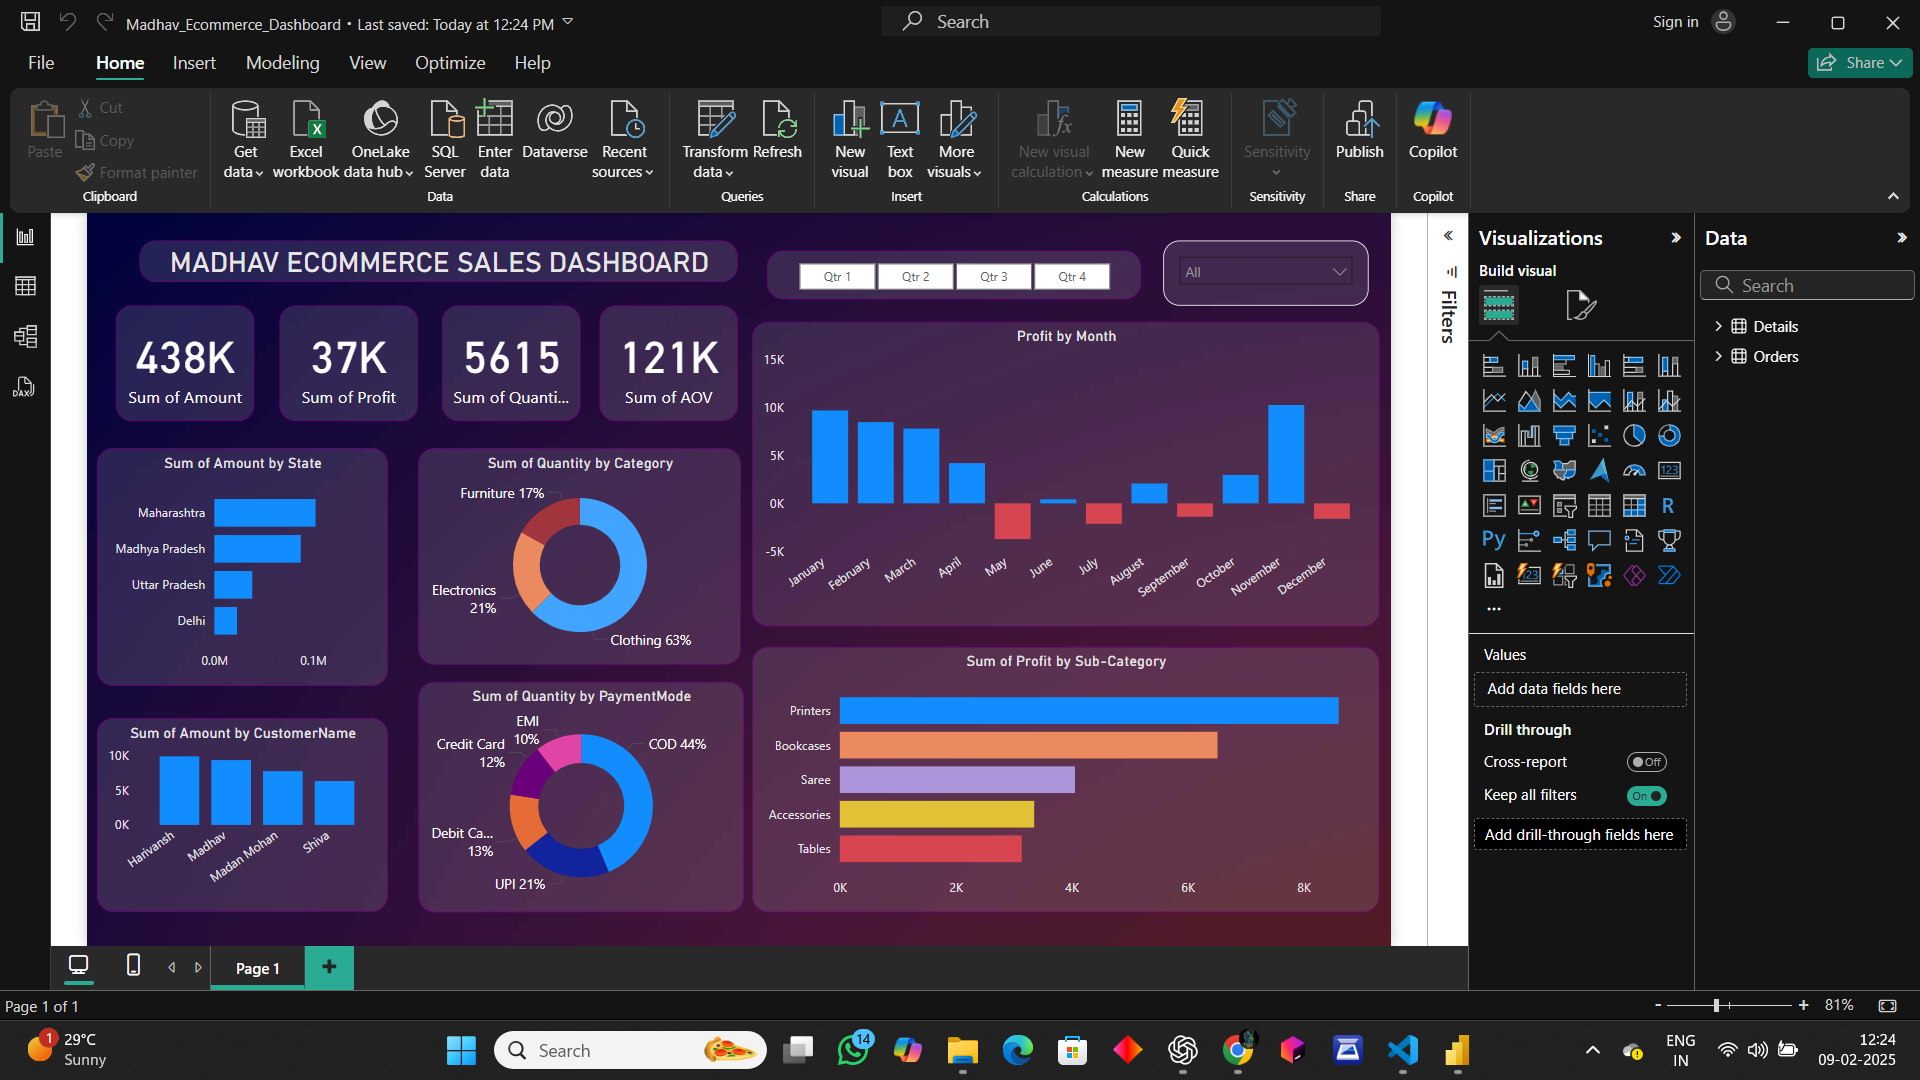

Layout of this report page (visuals, bound fields, positions):
{"tool":"powerbi","page":{"name":"Page 1","canvas":[1280,720],"ordinal":0},"visuals":[{"type":"textbox","title":"MADHAV ECOMMERCE SALES DASHBOARD","box":[52.1,27.4,587.3,41.2],"z":0},{"type":"columnChart","title":" Profit by Month","fields":{"Category":["Orders.Order Date.Variation.Date Hierarchy.Month1"],"Y":["Details.Profit"]},"box":[653.2,107,616.1,299.1],"z":1000},{"type":"barChart","fields":{"Category":["Details.Sub-Category"],"Y":["Details.Profit"]},"box":[653.2,425.4,616.1,260.7],"z":2000},{"type":"donutChart","fields":{"Y":["Details.Quantity"],"Category":["Details.PaymentMode"]},"box":[325.2,459.7,319.7,226.4],"z":3000},{"type":"donutChart","fields":{"Category":["Details.Category"],"Y":["Details.Quantity"]},"box":[325.2,230.5,317,212.7],"z":4000},{"type":"card","fields":{"Values":["Details.Amount"]},"box":[28.8,90.6,135.8,113.9],"z":5000},{"type":"card","fields":{"Values":["Details.Profit"]},"box":[189.4,90.6,135.8,113.9],"z":6000},{"type":"card","fields":{"Values":["Details.Quantity"]},"box":[348.5,90.6,135.8,113.9],"z":7000},{"type":"card","fields":{"Values":["Details.AOV"]},"box":[503.6,90.6,135.8,113.9],"z":8000},{"type":"barChart","fields":{"Category":["Orders.State"],"Y":["Details.Amount"]},"box":[9.6,230.5,285.4,233.3],"z":9000},{"type":"columnChart","fields":{"Category":["Orders.CustomerName"],"Y":["Details.Amount"]},"box":[9.6,495.4,285.4,190.7],"z":10000},{"type":"slicer","fields":{"Values":["Orders.Order Date.Variation.Date Hierarchy.Quarter"]},"box":[667.5,36.8,366.9,47.9],"z":10001},{"type":"slicer","fields":{"Values":["Orders.State"]},"box":[1056.4,27,201.2,63.8],"z":10002}]}

Visuals, with their boxes on the page's 1280x720 design canvas (x1, y1, x2, y2). These are canvas units, not pixel positions in the 1920x1080 screenshot, which may show the page scaled, cropped or inside an application window:
"MADHAV ECOMMERCE SALES DASHBOARD" textbox: <bbox>52, 27, 639, 69</bbox>
" Profit by Month" columnChart: <bbox>653, 107, 1269, 406</bbox>
barChart - Details.Sub-Category x Details.Profit: <bbox>653, 425, 1269, 686</bbox>
donutChart - Details.Quantity x Details.PaymentMode: <bbox>325, 460, 645, 686</bbox>
donutChart - Details.Category x Details.Quantity: <bbox>325, 230, 642, 443</bbox>
card - Details.Amount: <bbox>29, 91, 165, 204</bbox>
card - Details.Profit: <bbox>189, 91, 325, 204</bbox>
card - Details.Quantity: <bbox>348, 91, 484, 204</bbox>
card - Details.AOV: <bbox>504, 91, 639, 204</bbox>
barChart - Orders.State x Details.Amount: <bbox>10, 230, 295, 464</bbox>
columnChart - Orders.CustomerName x Details.Amount: <bbox>10, 495, 295, 686</bbox>
slicer - Orders.Order Date.Variation.Date Hierarchy.Quarter: <bbox>668, 37, 1034, 85</bbox>
slicer - Orders.State: <bbox>1056, 27, 1258, 91</bbox>
